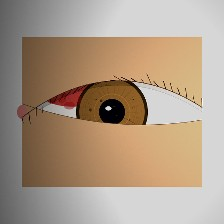hemorrhage_spot: (30, 61, 114, 128)
